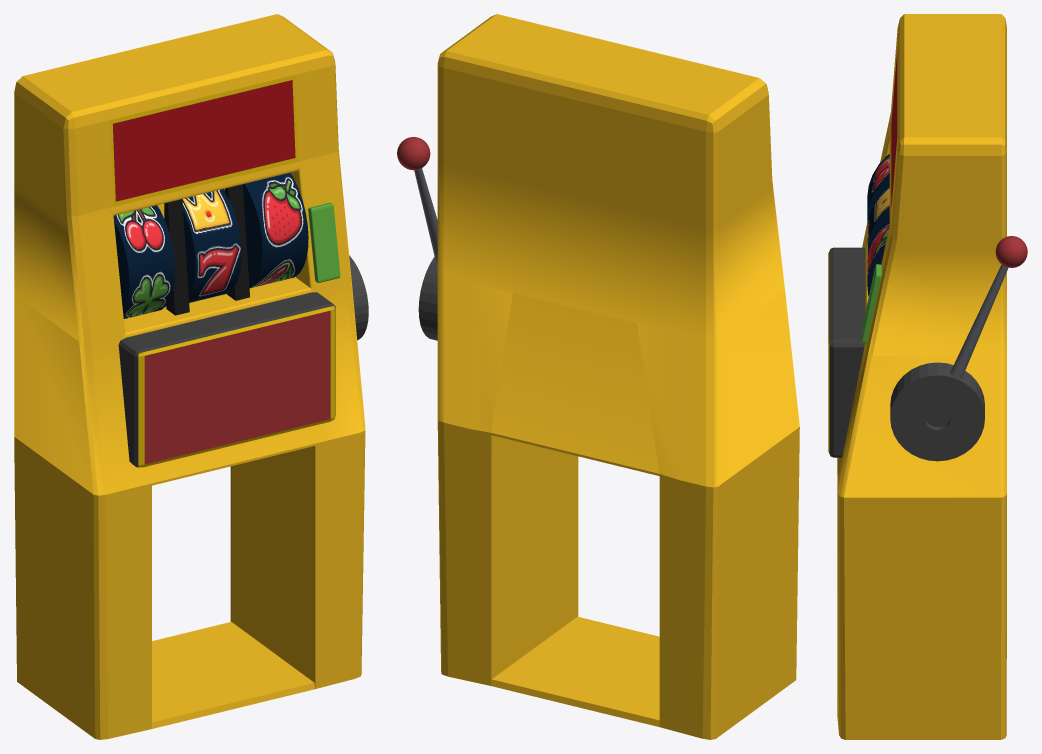
The model's file is slotmachinegate (1).fbx.
The picture shows the model from 3 angles, left to right: view 1: azimuth 30°, elevation 25°; view 2: azimuth 150°, elevation 25°; view 3: azimuth 270°, elevation 25°; orthographic projection. The views are drawn at different scales.
Visible parts, largest first — view 1: slotmachinegate, gate, Cylinder.001, Cylinder.002, Cylinder, handle; view 2: slotmachinegate, gate, handle; view 3: slotmachinegate, gate, handle, Cylinder, Cylinder.001, Cylinder.002.
Boxes of the visible parts, x1,y1,x2,y2 form: slotmachinegate: (14,14,365,497); gate: (14,433,365,739); Cylinder.001: (242,172,308,288); Cylinder.002: (113,205,175,318); Cylinder: (182,189,241,302); handle: (349,255,368,340); slotmachinegate: (437,14,799,489); gate: (437,421,799,739); handle: (397,137,437,340); slotmachinegate: (828,14,1006,499); gate: (837,474,1006,739); handle: (890,236,1027,461); Cylinder: (867,186,889,256); Cylinder.001: (867,218,889,296); Cylinder.002: (867,154,889,222).
Bounding box in the file's own units: 150 × 284 × 85.55.
